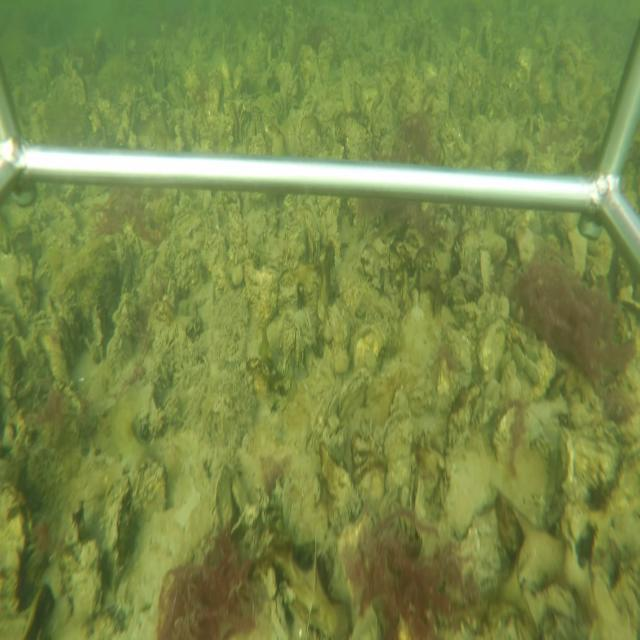Oyster-Closed: (439, 433, 501, 541), (381, 408, 413, 503), (133, 382, 170, 459), (337, 369, 371, 424), (352, 325, 386, 372), (305, 211, 321, 269), (476, 246, 493, 294)
Oyster-Indeterminate: (99, 473, 131, 601), (475, 321, 509, 388), (132, 454, 170, 512), (512, 212, 534, 272)
Oyster-Open: (351, 457, 385, 491), (409, 469, 427, 520), (225, 97, 243, 145)
